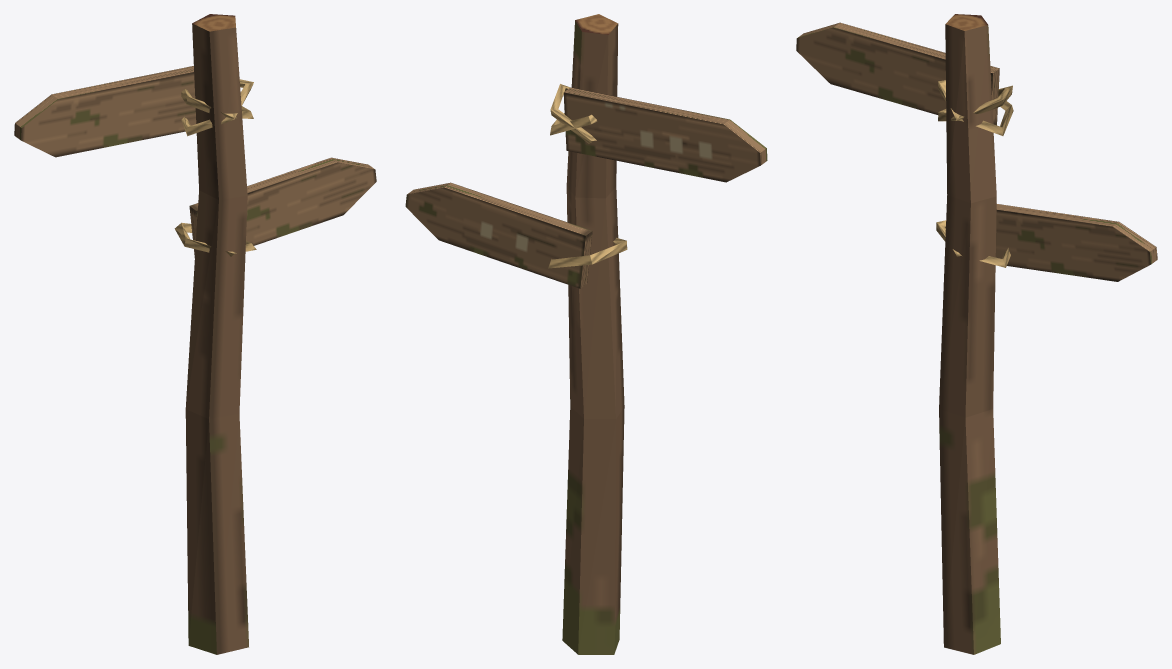
The model's file is SM_MK02_SignFork.fbx.
3 renders of one model, left to right at view 1: azimuth 30°, elevation 25°; view 2: azimuth 150°, elevation 25°; view 3: azimuth 330°, elevation 25°, orthographic.
Visible parts, largest first — view 1: MK02_Sign; view 2: MK02_Sign; view 3: MK02_Sign.
Boxes of the visible parts, <box> form: MK02_Sign: <box>14,14,376,654</box>; MK02_Sign: <box>405,14,767,654</box>; MK02_Sign: <box>796,14,1157,654</box>.
Bounding box in the file's own units: 1.2 × 2.01 × 0.2188.
